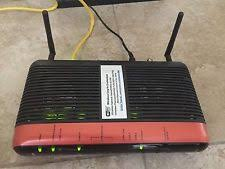Verizon Router: (6, 20, 222, 165)
